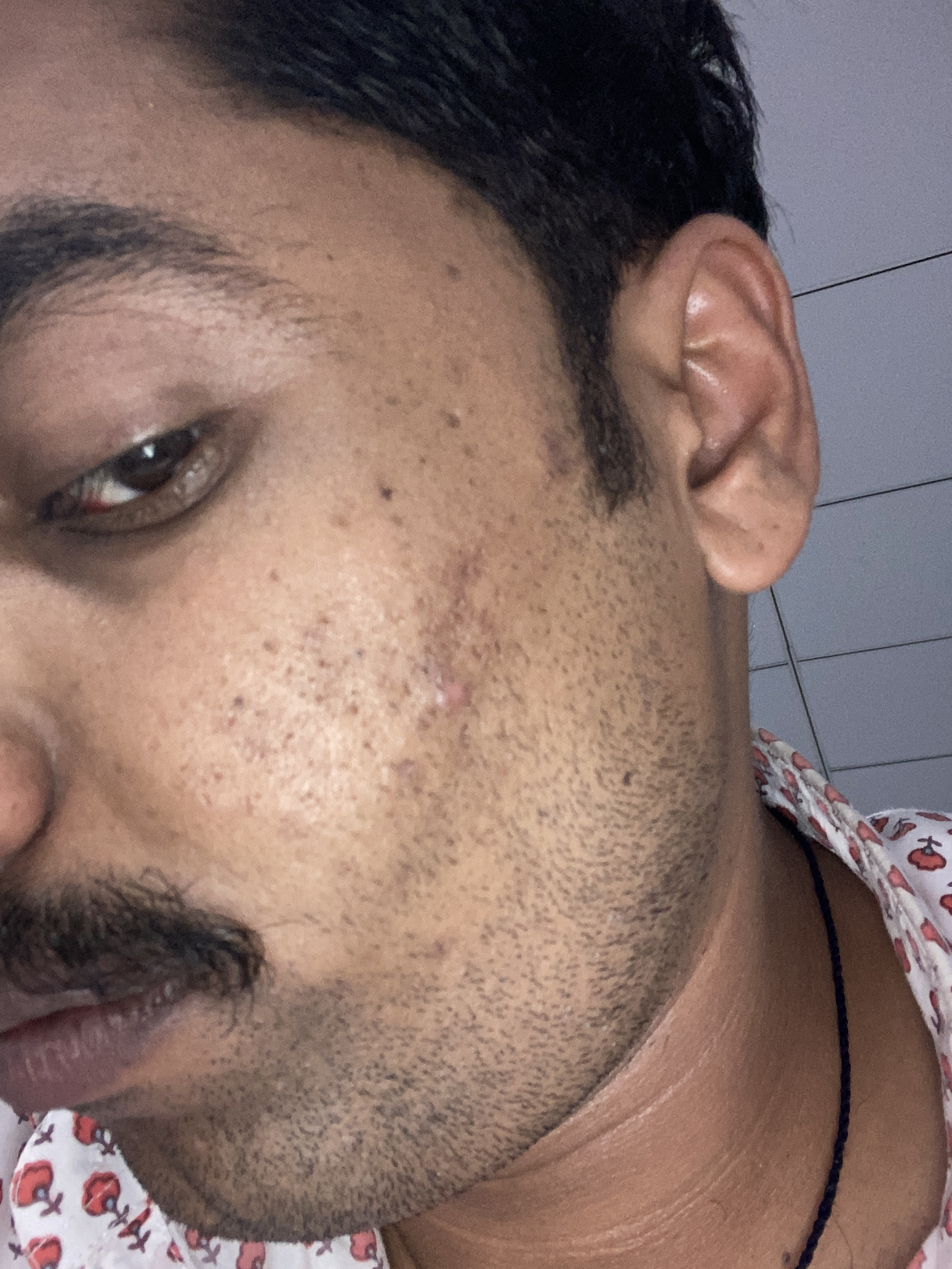papule: (444, 678, 476, 715)
